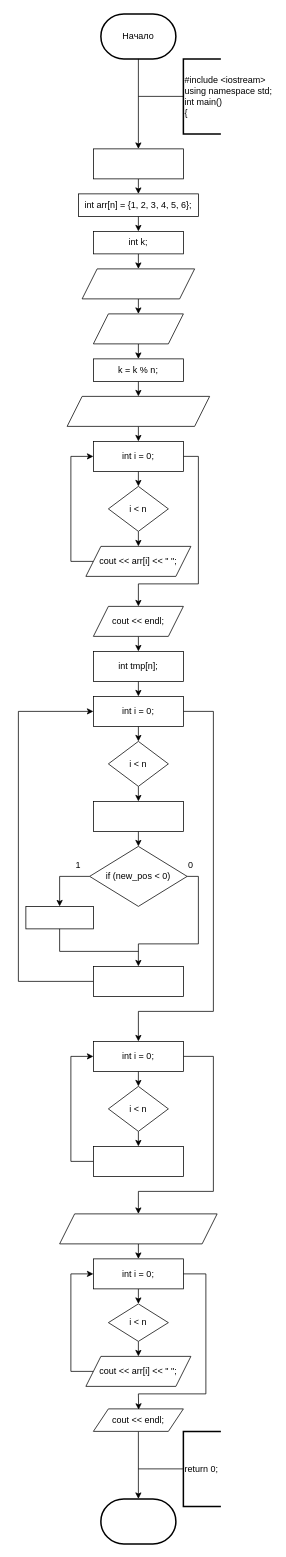
This 286x1557 diagram has some shape labels left out. Here are the shapes that lost their labels. From the top down, the centre of each, then its label:
point 138,163: const int n = 6;
point 138,283: cout << "Введите k: ";
point 138,328: cin >> k;
point 138,411: cout << "Исходный массив: ";
point 138,816: int new_pos = i - k;
point 59,917: new_pos += n;
point 138,981: tmp[new_pos] = arr[i];
point 138,1161: arr[i] = tmp[i];
point 138,1228: cout << "Массив после сдвига: ";
point 138,1521: Конец
